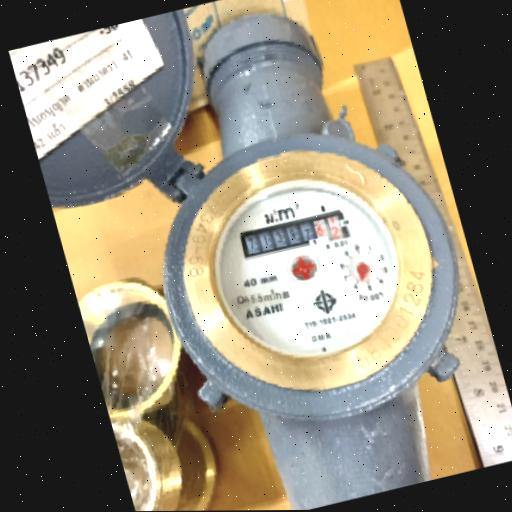1: (259, 231, 275, 251)
2: (327, 216, 343, 240)
3: (271, 227, 287, 248)
6: (313, 218, 329, 237)
7: (244, 234, 261, 254), (300, 221, 315, 241)
9: (286, 224, 302, 244)
border_water_meter_number: (238, 208, 352, 262)
